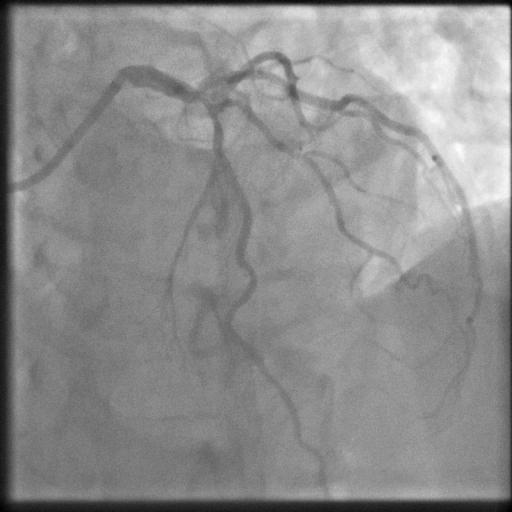Stenosis: (199, 97, 221, 134)
